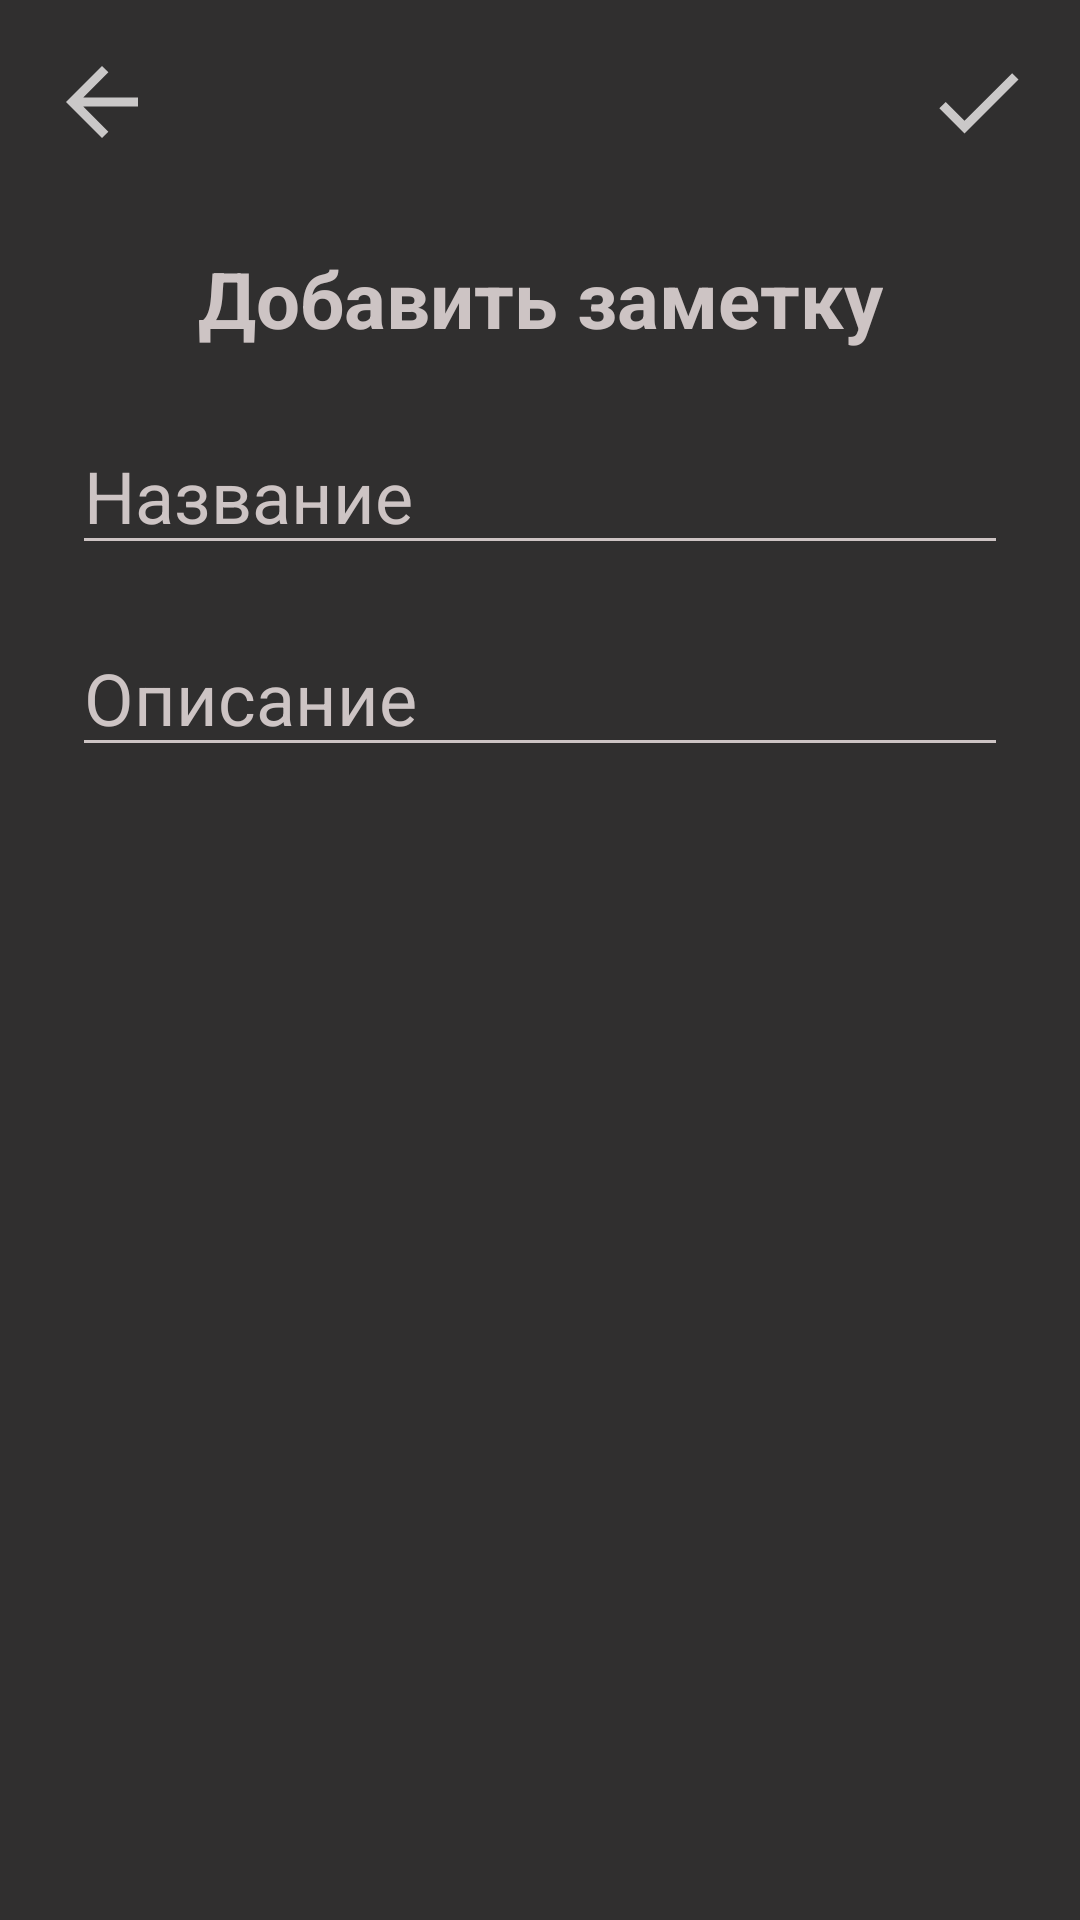

Named icons in this screenshot (1080 x 1920) and their centers, (x,y):
back: (102,102)
check: (979,103)
